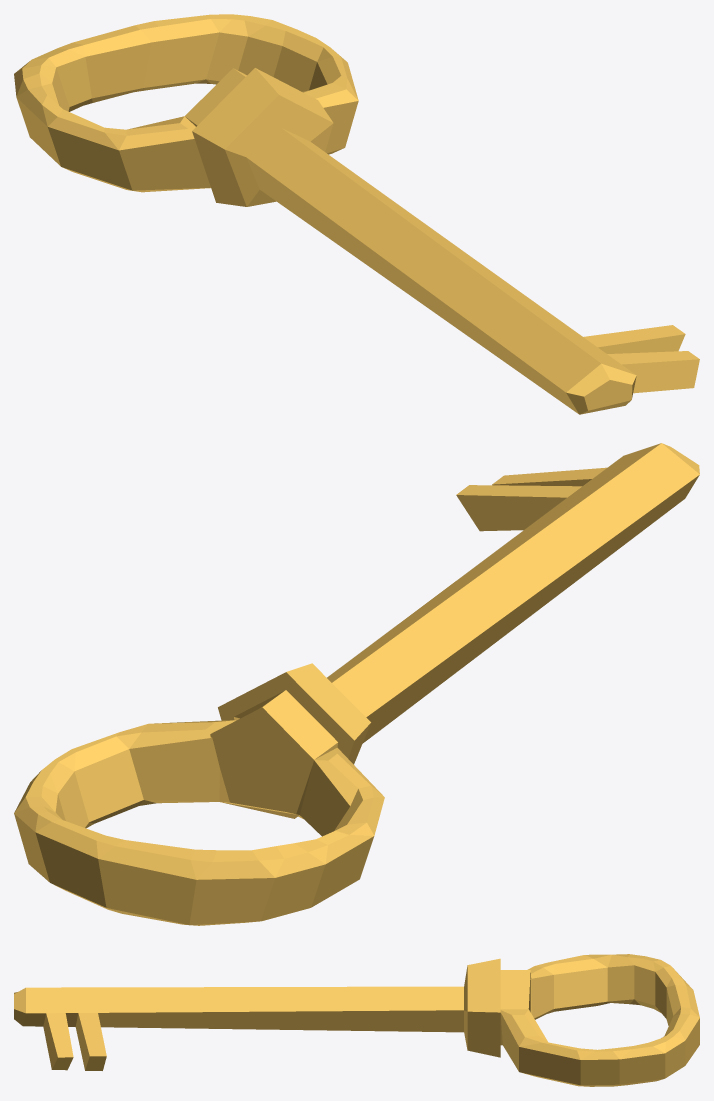
The model's file is Key.fbx.
3 renders of one model, top to bottom at view 1: azimuth 30°, elevation 25°; view 2: azimuth 150°, elevation 25°; view 3: azimuth 270°, elevation 25°, orthographic. The views are drawn at different scales.
Visible parts, largest first — view 1: Cylinder; view 2: Cylinder; view 3: Cylinder.
Boxes of the visible parts, box(x1,y1,x2,y2) form: Cylinder: box(14, 14, 699, 414); Cylinder: box(14, 443, 699, 925); Cylinder: box(14, 954, 699, 1086).
Bounding box in the file's own units: 11.68 × 4.74 × 34.26.
